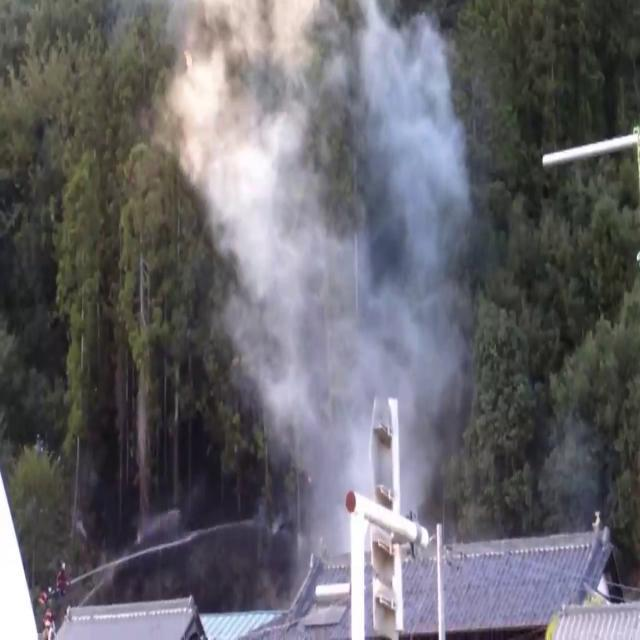Smoke: (170, 0, 482, 502)
